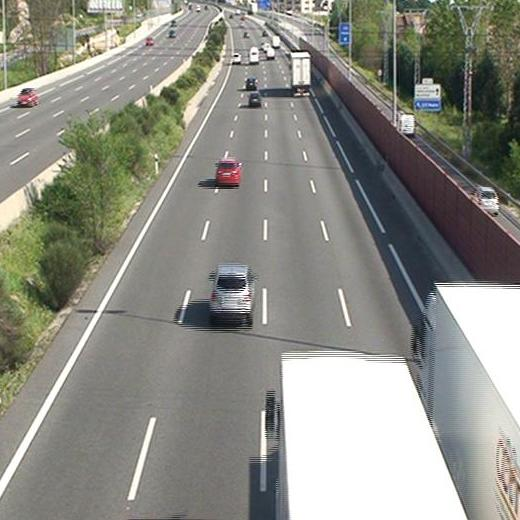car: (210, 264, 254, 319), (216, 159, 240, 185), (249, 92, 262, 106), (245, 77, 258, 89), (231, 53, 241, 63)
truck: (288, 53, 311, 95)
van: (249, 48, 259, 64), (266, 45, 274, 58)
